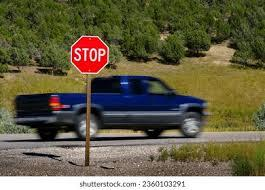Pole: (86, 74, 91, 165)
Sign: (70, 35, 108, 73)
